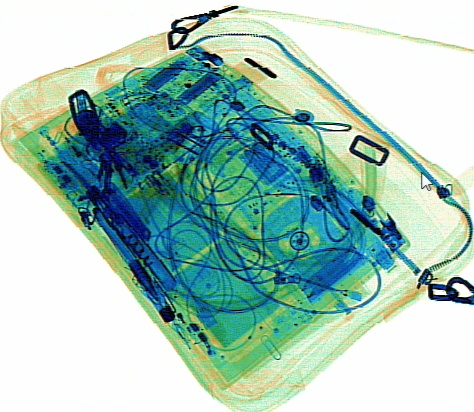lighter: (37, 116, 107, 195), (154, 287, 206, 353)
